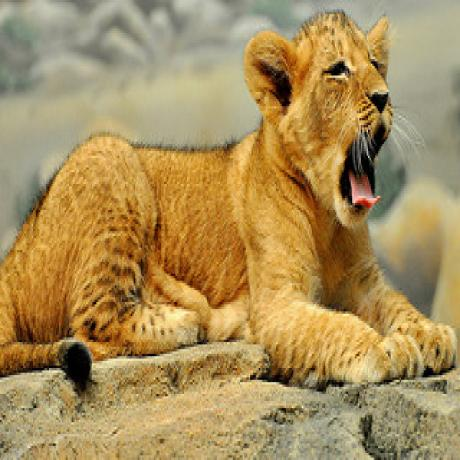Lion: (0, 5, 455, 396)
